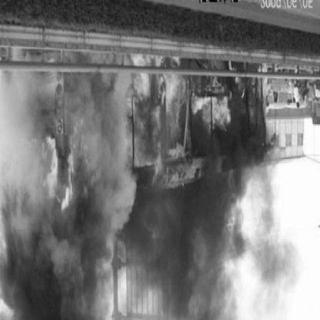Smoke: (4, 167, 278, 317)
